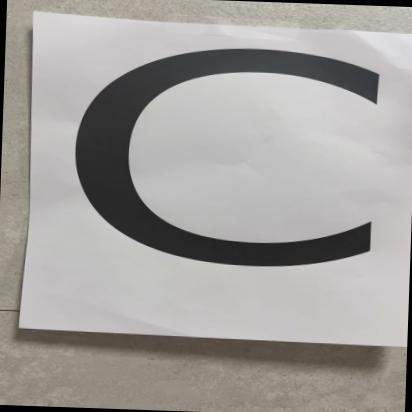seat: (17, 16, 412, 343)
